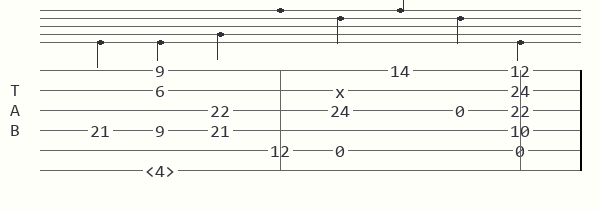0: (335, 143, 349, 158), (455, 103, 469, 118), (515, 143, 529, 158)
10: (510, 123, 534, 138)
12: (270, 143, 294, 158), (510, 63, 534, 78)
14: (390, 63, 414, 78)
21: (90, 123, 114, 138), (210, 123, 234, 138)
22: (210, 103, 234, 118), (510, 103, 534, 118)
24: (330, 103, 354, 118), (510, 83, 534, 98)
6: (155, 83, 169, 98)
9: (155, 63, 169, 78), (155, 123, 169, 138)
harmonic: (145, 163, 179, 178)
x: (335, 84, 349, 97)
